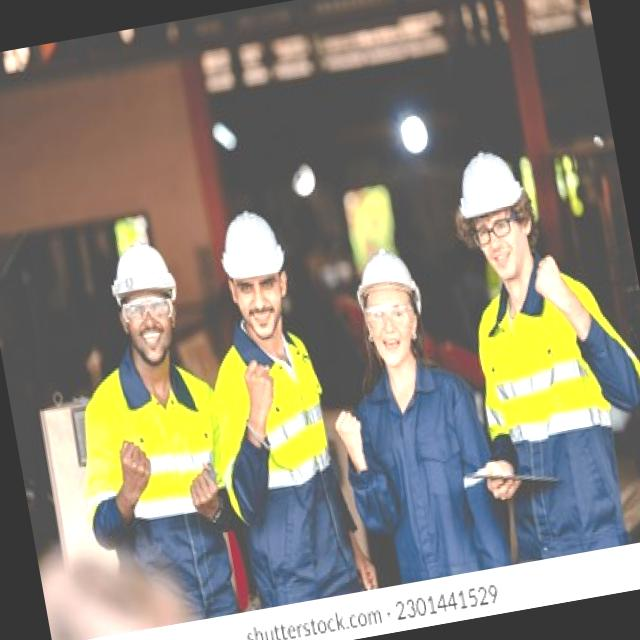goggles: (114, 290, 178, 330), (362, 296, 418, 335)
helmet: (212, 204, 290, 290), (347, 242, 427, 322), (102, 233, 182, 312), (448, 145, 525, 221)
no-goggles: (462, 208, 526, 248), (238, 262, 282, 306)
vest: (65, 347, 252, 634), (463, 261, 640, 561), (200, 317, 368, 609), (331, 347, 516, 590)
